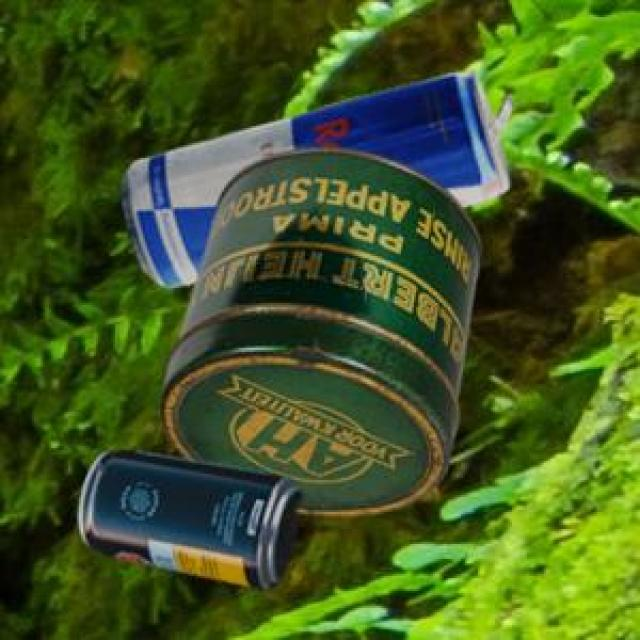logam: (159, 146, 477, 513), (118, 67, 509, 285), (76, 447, 298, 588)
